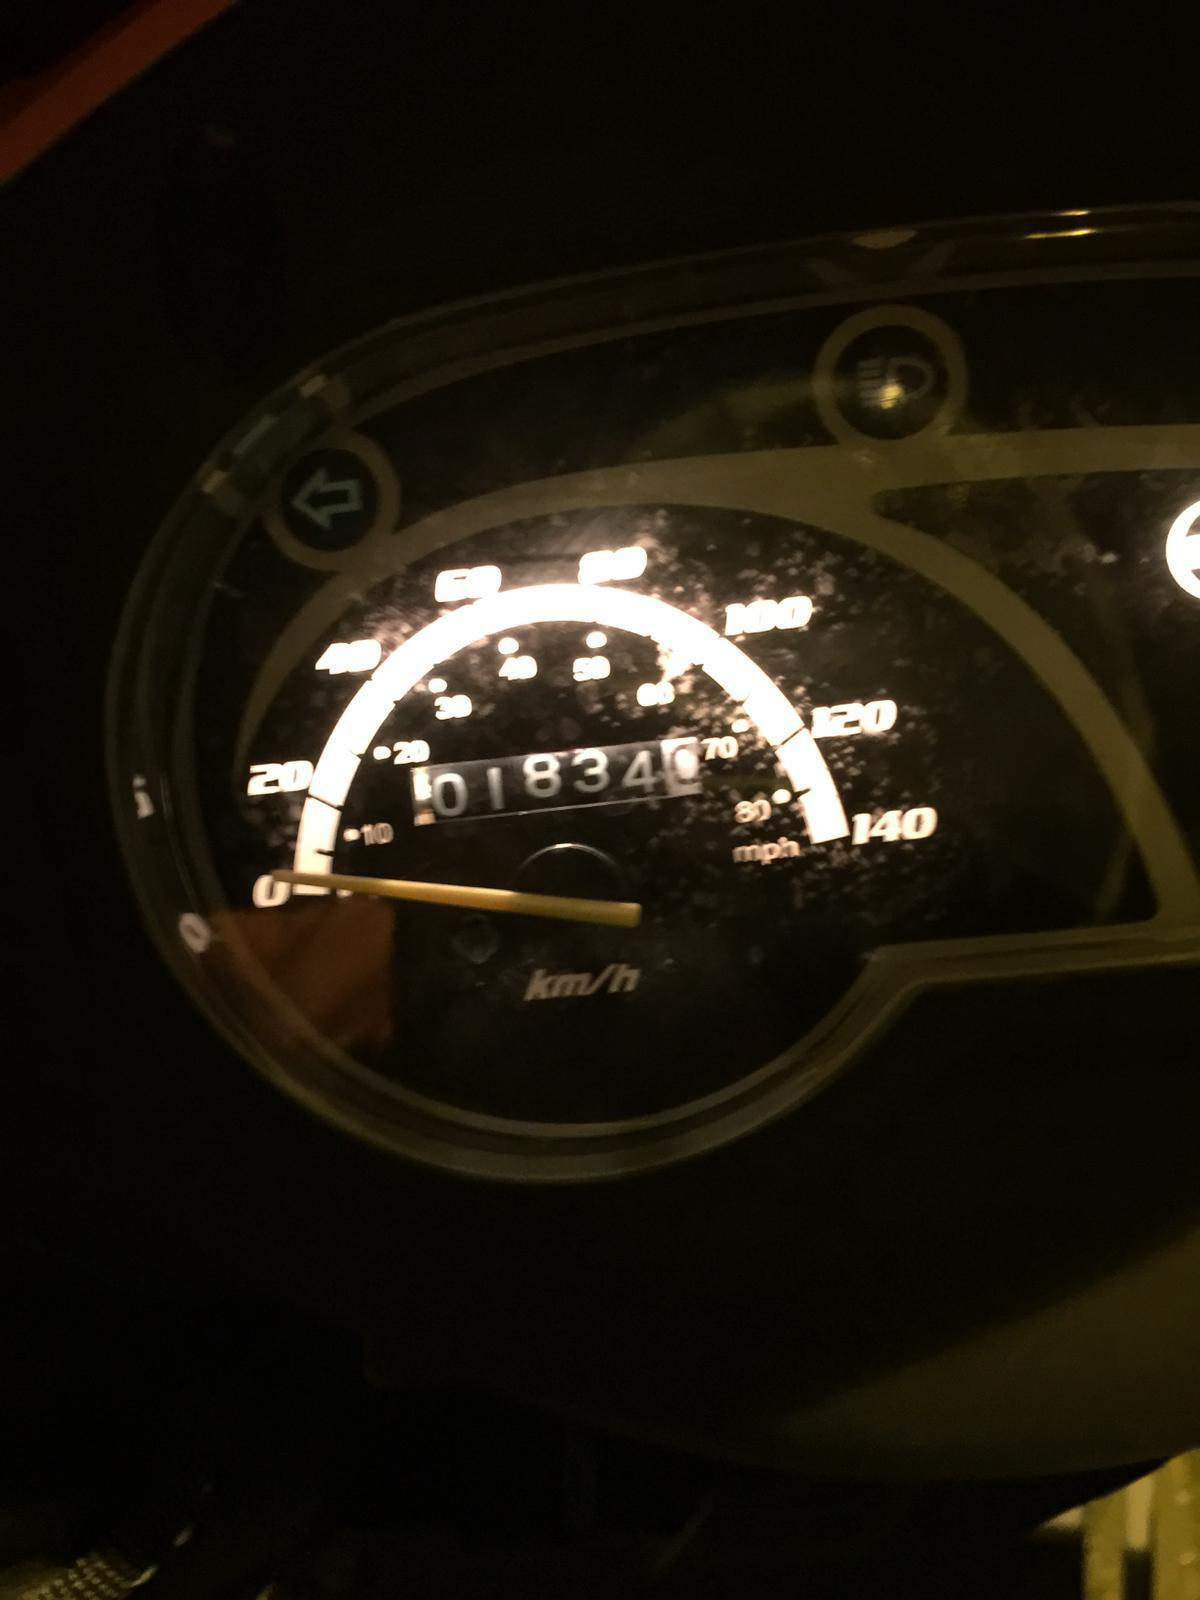0: (666, 741, 703, 804), (431, 769, 473, 820), (410, 738, 431, 762)
1: (484, 752, 507, 816)
3: (572, 745, 611, 795)
4: (620, 746, 661, 803)
7: (703, 734, 720, 763)
8: (521, 746, 563, 809)
odometer: (407, 729, 715, 825)
